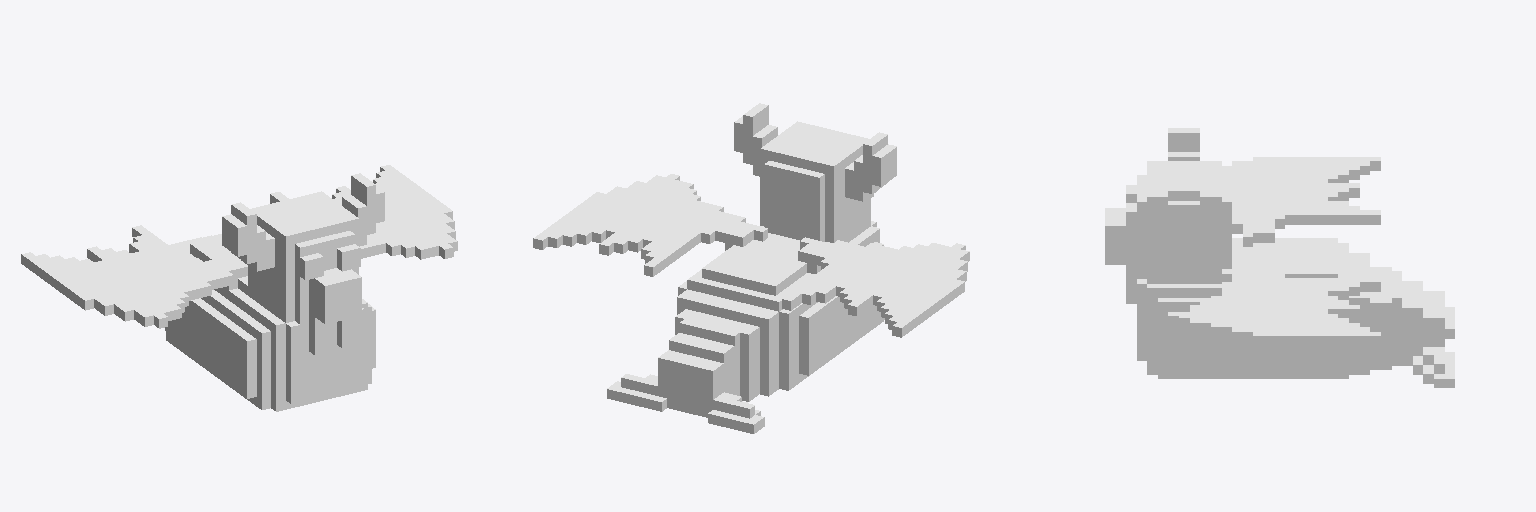
The model's file is mors.obj.
The picture shows the model from 3 angles: view 1: azimuth 30°, elevation 25°; view 2: azimuth 150°, elevation 25°; view 3: azimuth 270°, elevation 25°; orthographic projection.
Parts seen in each view (by area): view 1: object 1; view 2: object 1; view 3: object 1.
Part boxes in pixels (left/top/right/bottom): object 1: left=21, top=165, right=457, bottom=411; object 1: left=533, top=103, right=969, bottom=433; object 1: left=1105, top=128, right=1454, bottom=387.
Bounding box in the file's own units: 4 × 2 × 3.3.